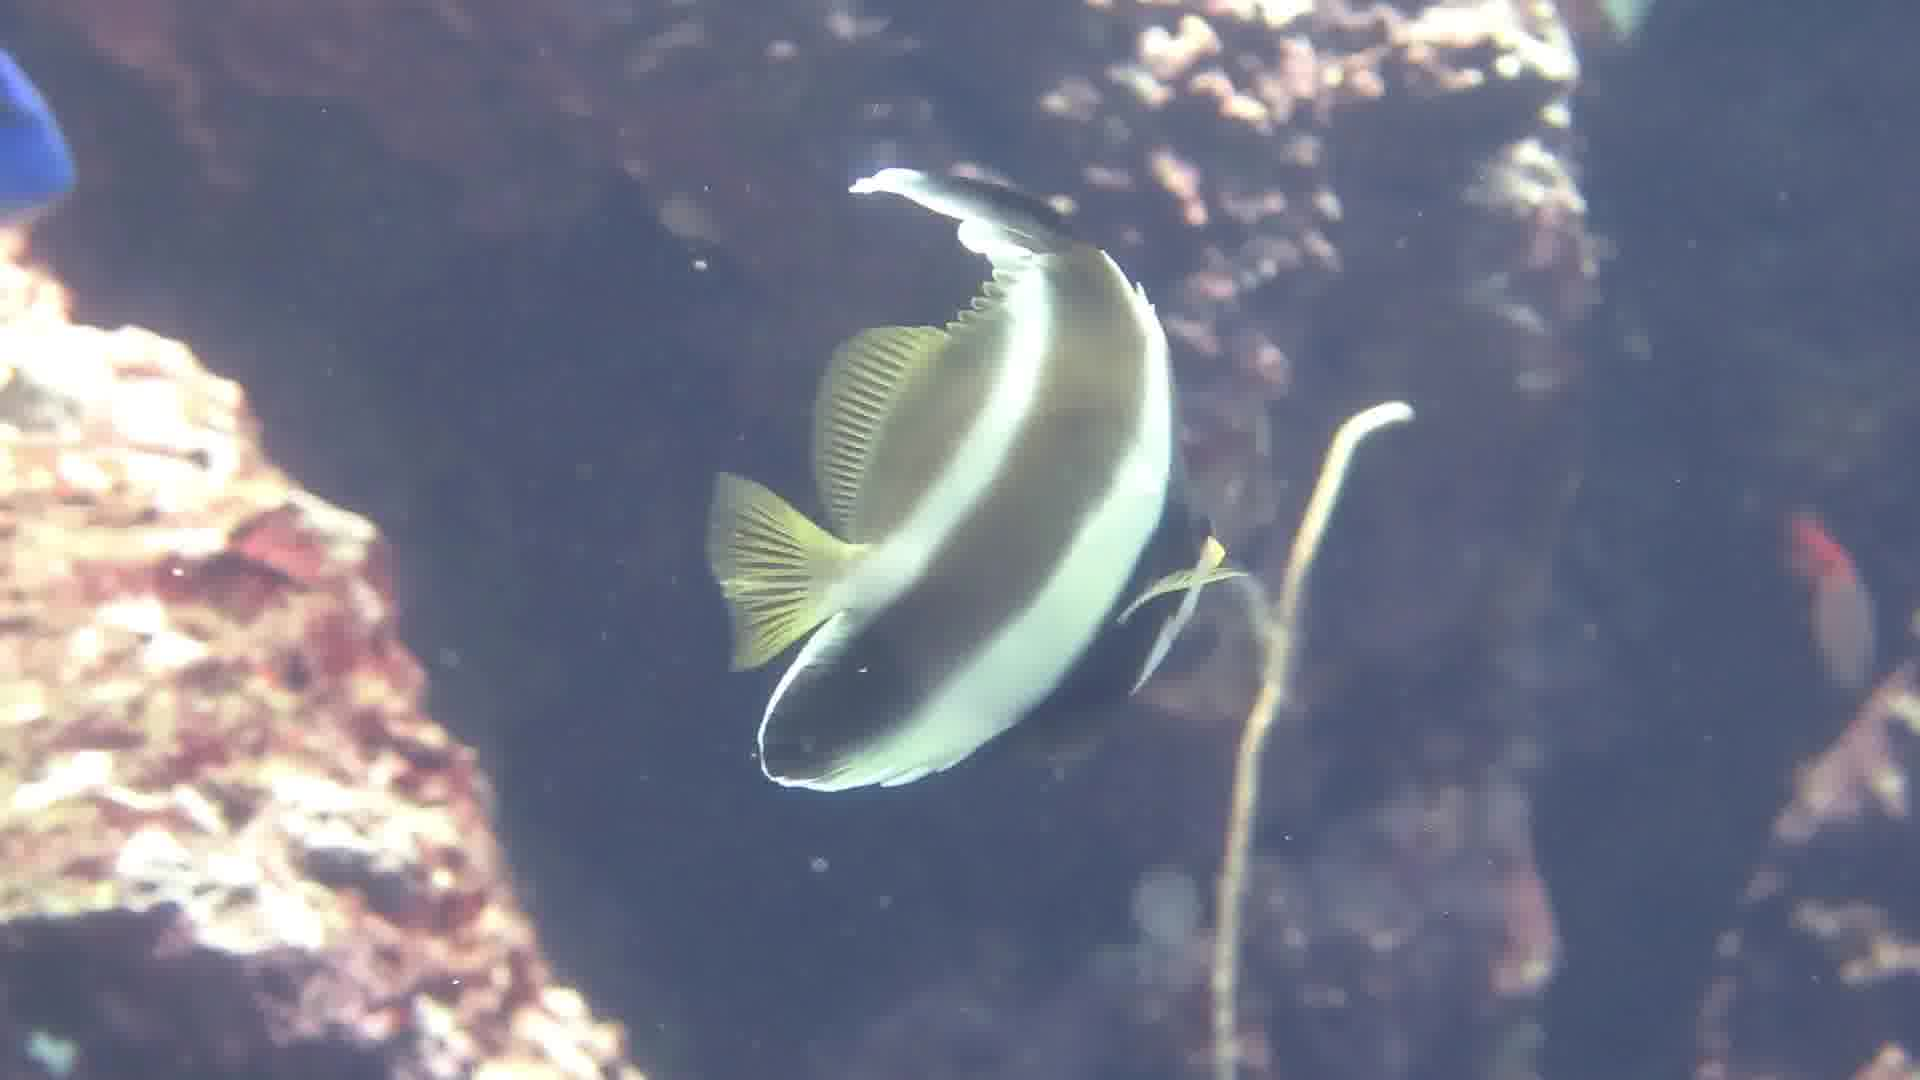Heniochus chrysostomus: (628, 99, 1382, 884)
